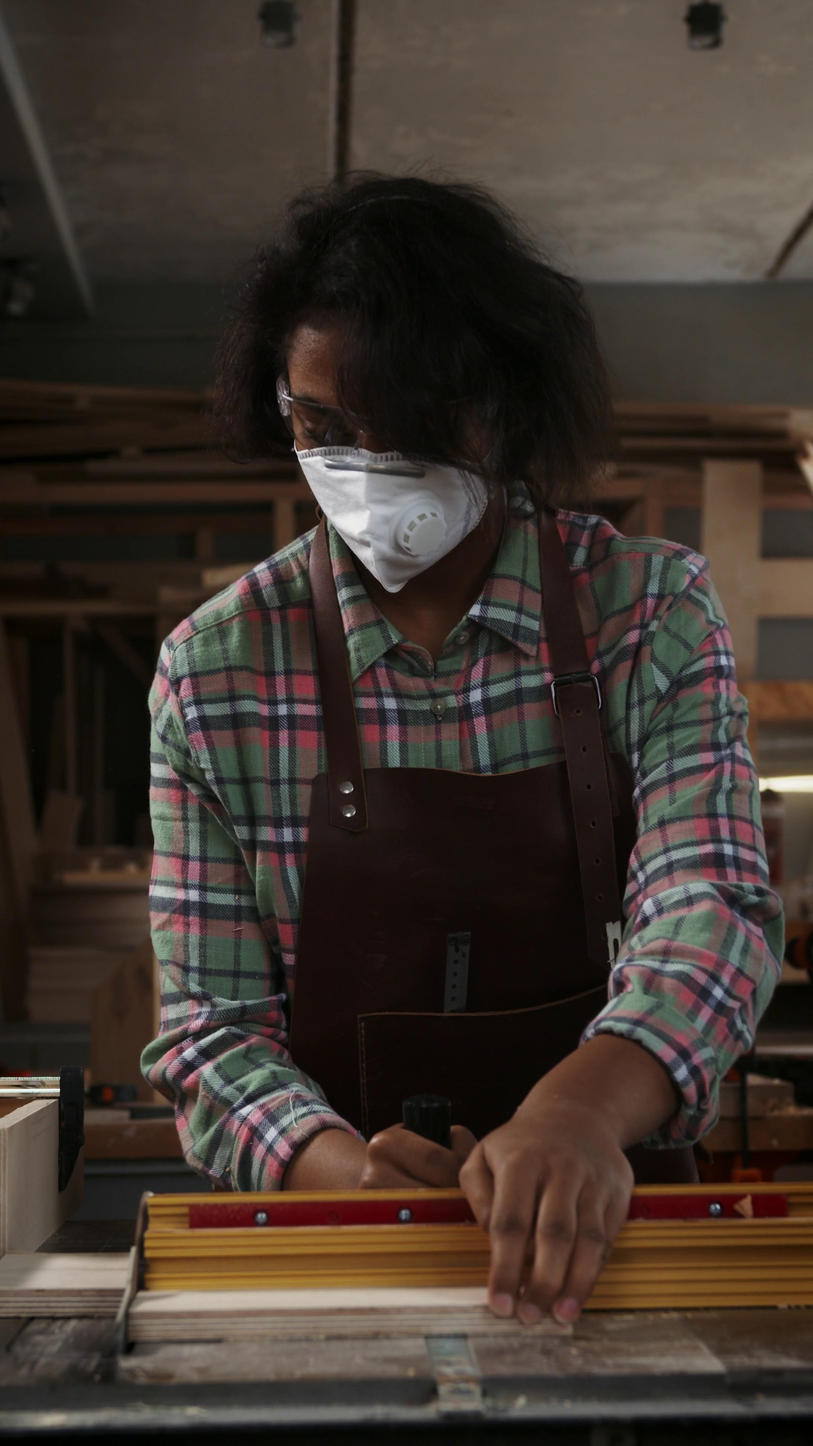mask: (294, 445, 490, 594)
person: (130, 159, 790, 1335)
